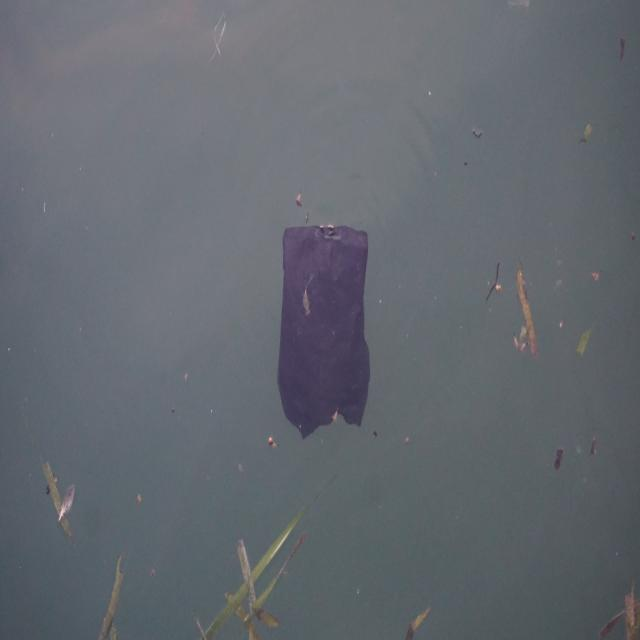Kantong Plastik: (278, 220, 375, 436)
